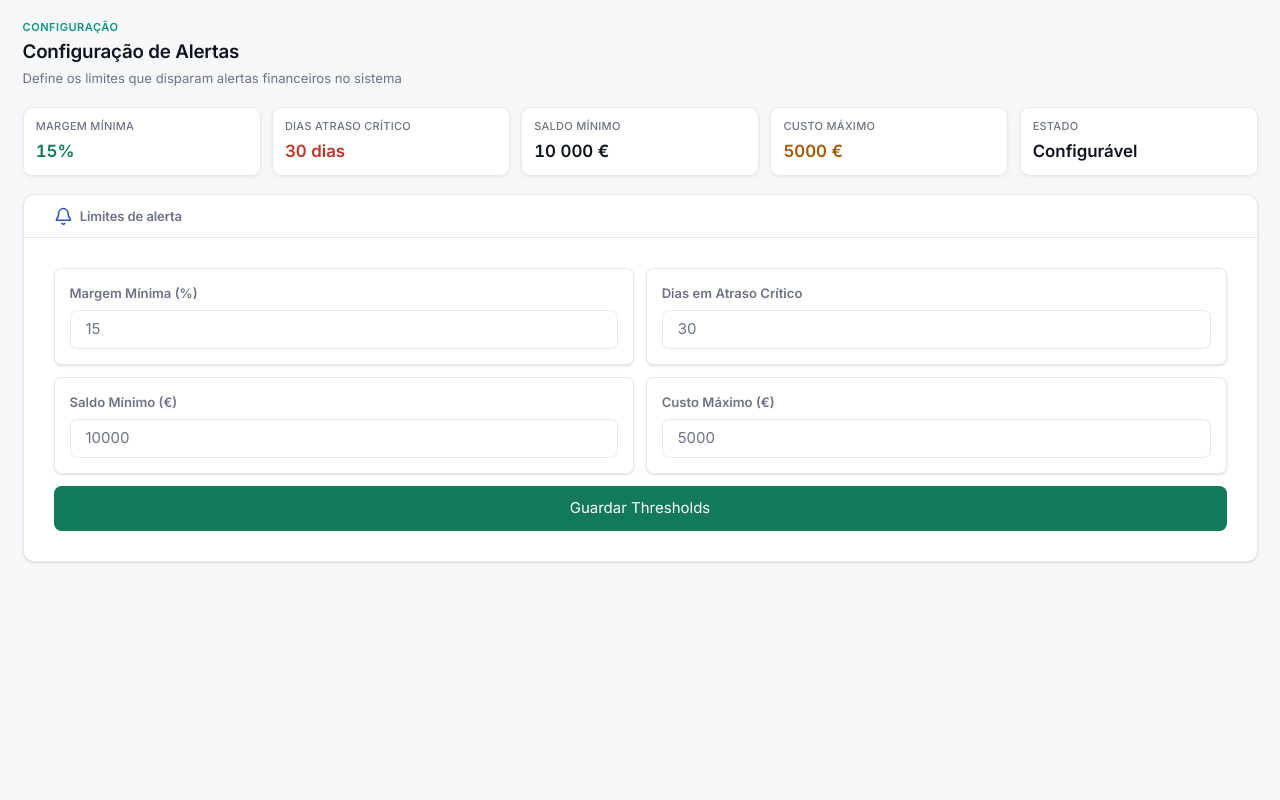
AlertThresholdsPage › updates the currency KPI when the minimum balance changes
This screenshot has width=1280, height=800.
Replace the text in the number field below "Saldo Mínimo (€)" with "20000": (344,439) [70, 419, 618, 458]
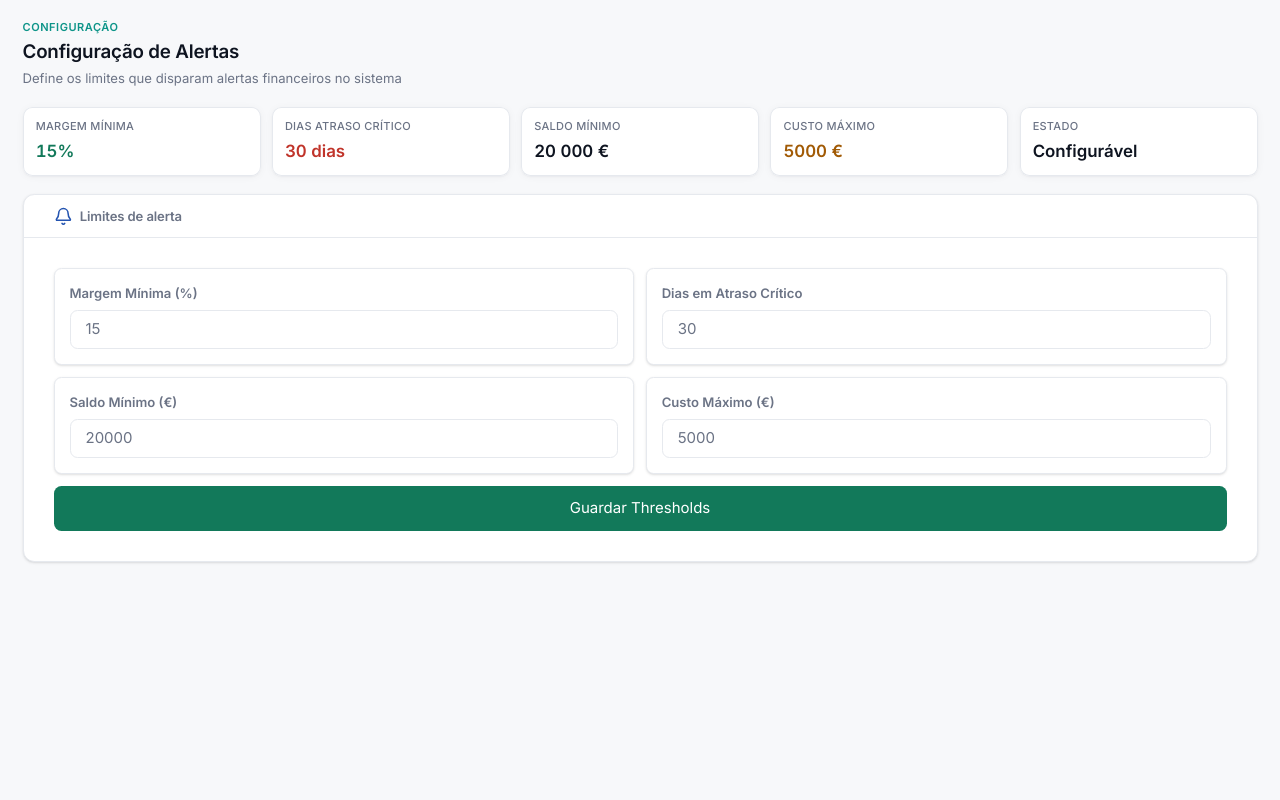
Result: the text "20 000 €" is shown at [534, 141, 609, 161]
